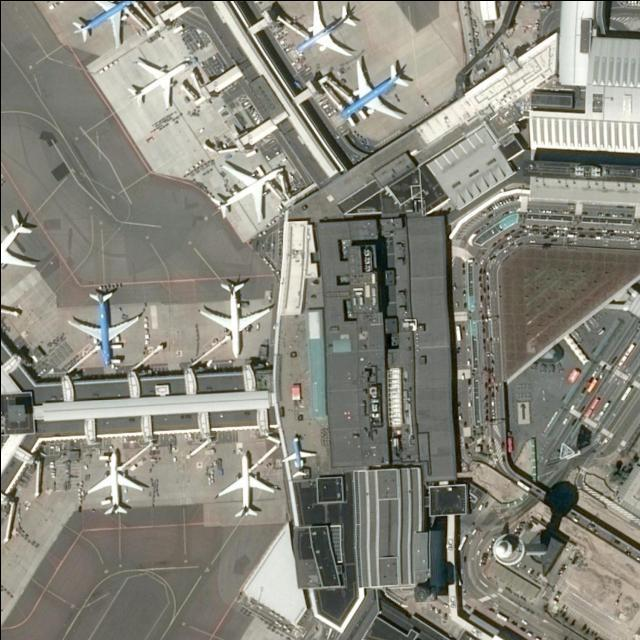Aircraft: (195, 279, 275, 356), (67, 286, 144, 365), (338, 58, 411, 120), (211, 163, 285, 221), (88, 447, 147, 515), (217, 450, 275, 516), (295, 0, 361, 54), (125, 58, 195, 107), (71, 0, 141, 45), (0, 212, 41, 282), (281, 435, 317, 477)
